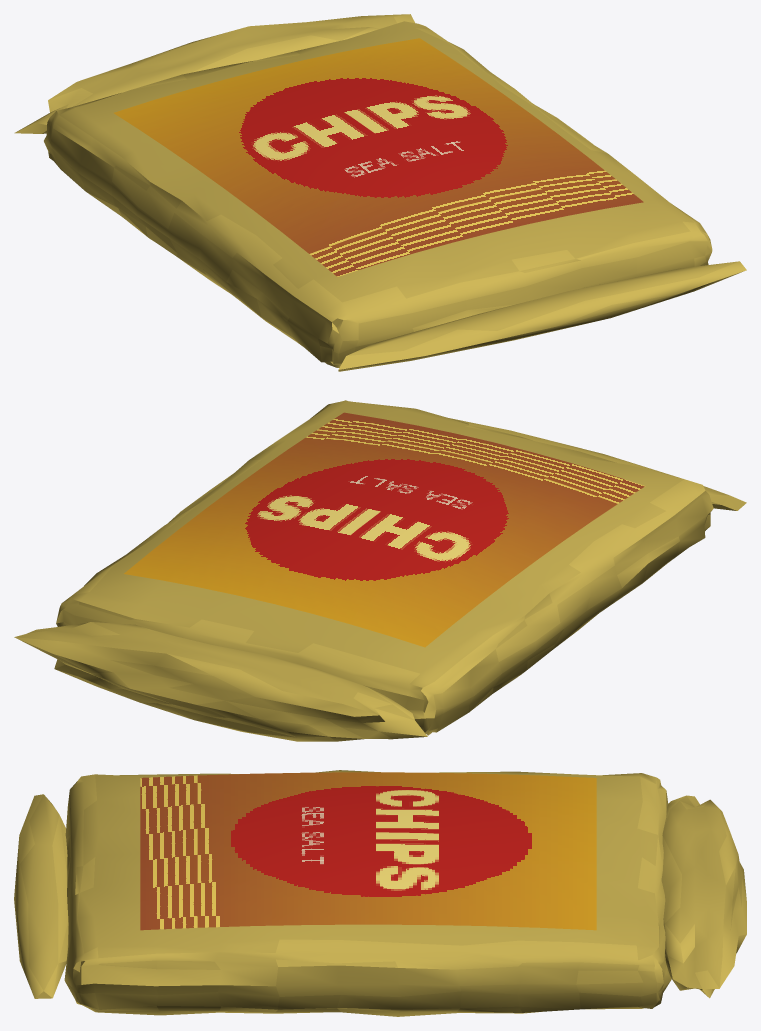
File: chip_bag.glb
3 renders of one model, top to bottom at view 1: azimuth 30°, elevation 25°; view 2: azimuth 150°, elevation 25°; view 3: azimuth 270°, elevation 25°, orthographic. The views are drawn at different scales.
Visible parts, largest first — view 1: body, panels; view 2: body, panels; view 3: body, panels.
Boxes of the visible parts, x1,y1,x2,y2 form: body: (14,14,746,371); panels: (114,38,643,276); body: (14,400,746,741); panels: (124,412,645,647); body: (14,770,746,1016); panels: (140,772,596,930).
Size of the model in its own units: 0.2 by 0.0548 by 0.305.
Materials: 2 (1 with a texture image).
